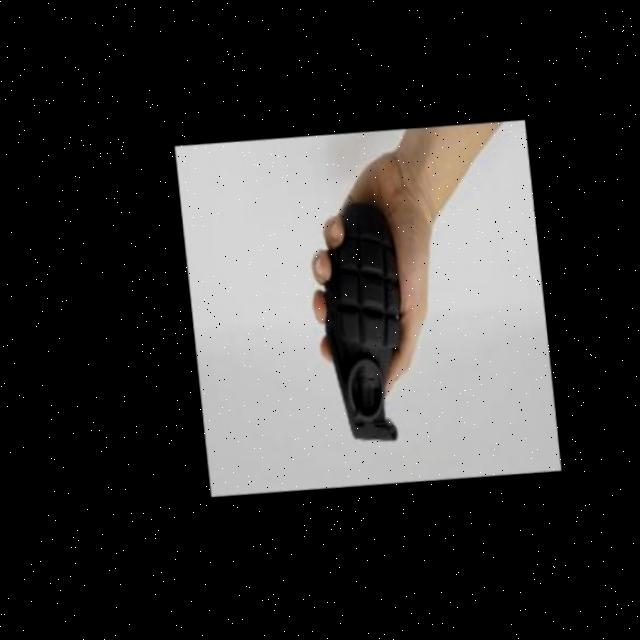grenade: (287, 170, 423, 459)
